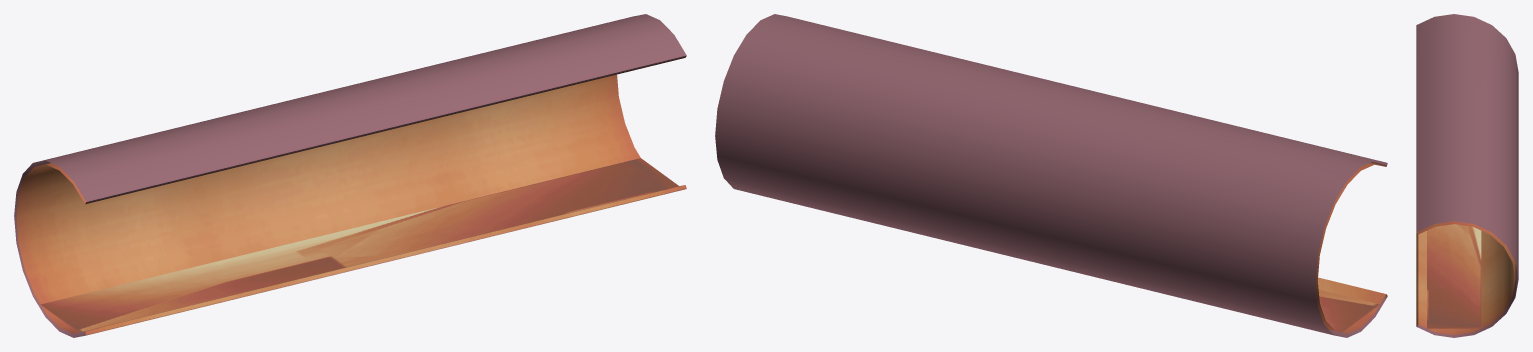
The model's file is openPipe_long 1.fbx.
The picture shows the model from 3 angles, left to right: view 1: azimuth 30°, elevation 25°; view 2: azimuth 150°, elevation 25°; view 3: azimuth 270°, elevation 25°; orthographic projection. The views are drawn at different scales.
Parts seen in each view (by area): view 1: openPipe_long, openPipe_long_colFloor; view 2: openPipe_long, openPipe_long_colFloor; view 3: openPipe_long, openPipe_long_colFloor.
Part boxes in pixels (box(x1,y1,x2,y2)): openPipe_long: box(14, 14, 686, 337); openPipe_long_colFloor: box(40, 158, 678, 332); openPipe_long: box(715, 14, 1387, 337); openPipe_long_colFloor: box(1318, 289, 1379, 332); openPipe_long: box(1416, 14, 1518, 337); openPipe_long_colFloor: box(1427, 224, 1481, 328).
Size of the model in its own units: 11.2 by 2.94 by 2.33.
1 material, 1 textured.
